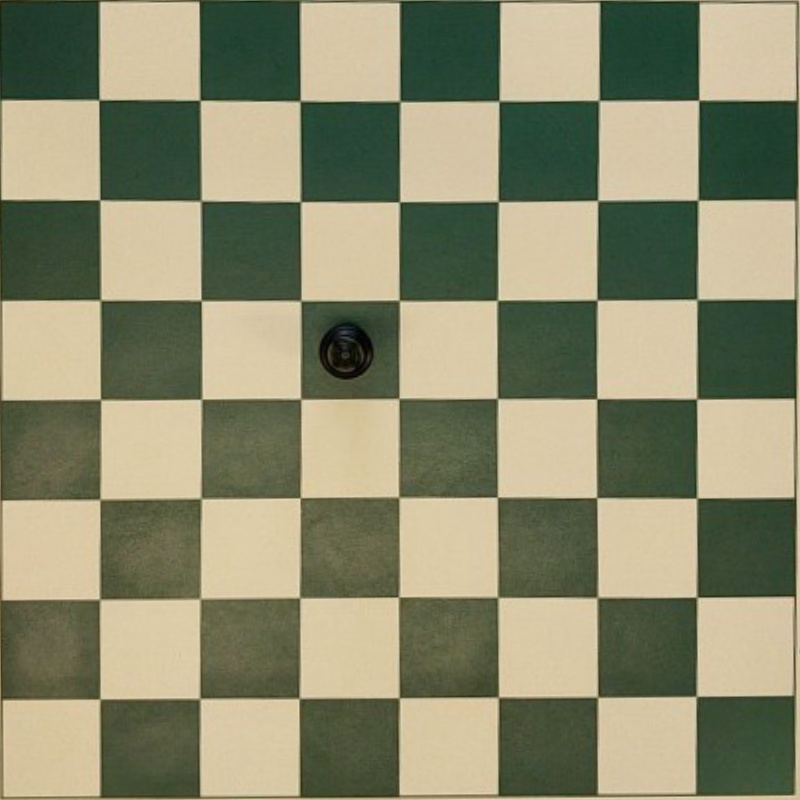black-bishop: (319, 321, 373, 378)
